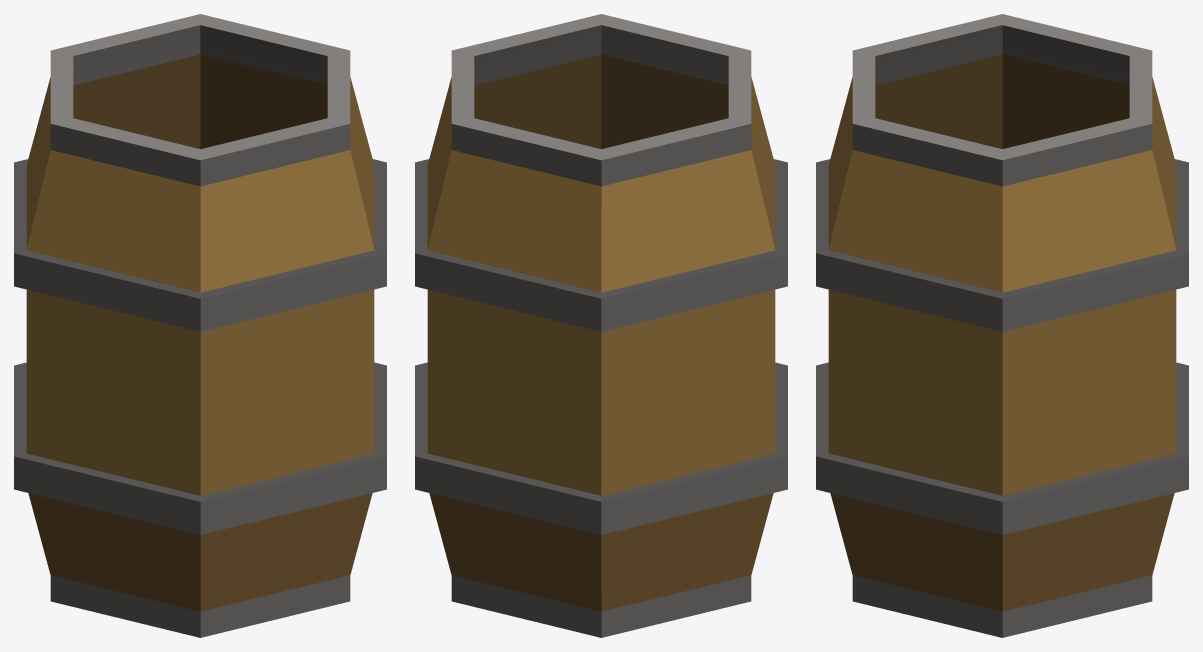
File: Barrel.gltf
3 renders of one model, left to right at view 1: azimuth 30°, elevation 25°; view 2: azimuth 150°, elevation 25°; view 3: azimuth 270°, elevation 25°, orthographic.
Parts seen in each view (by area): view 1: SF_Prop_Barrel_01; view 2: SF_Prop_Barrel_01; view 3: SF_Prop_Barrel_01.
Part boxes in pixels (x1=…): SF_Prop_Barrel_01: x1=14, y1=14, x2=386, y2=637; SF_Prop_Barrel_01: x1=415, y1=14, x2=787, y2=637; SF_Prop_Barrel_01: x1=816, y1=14, x2=1188, y2=637.
Bounding box in the file's own units: 0.0166 × 0.0203 × 0.0144.
Materials: 1 (1 with a texture image).
